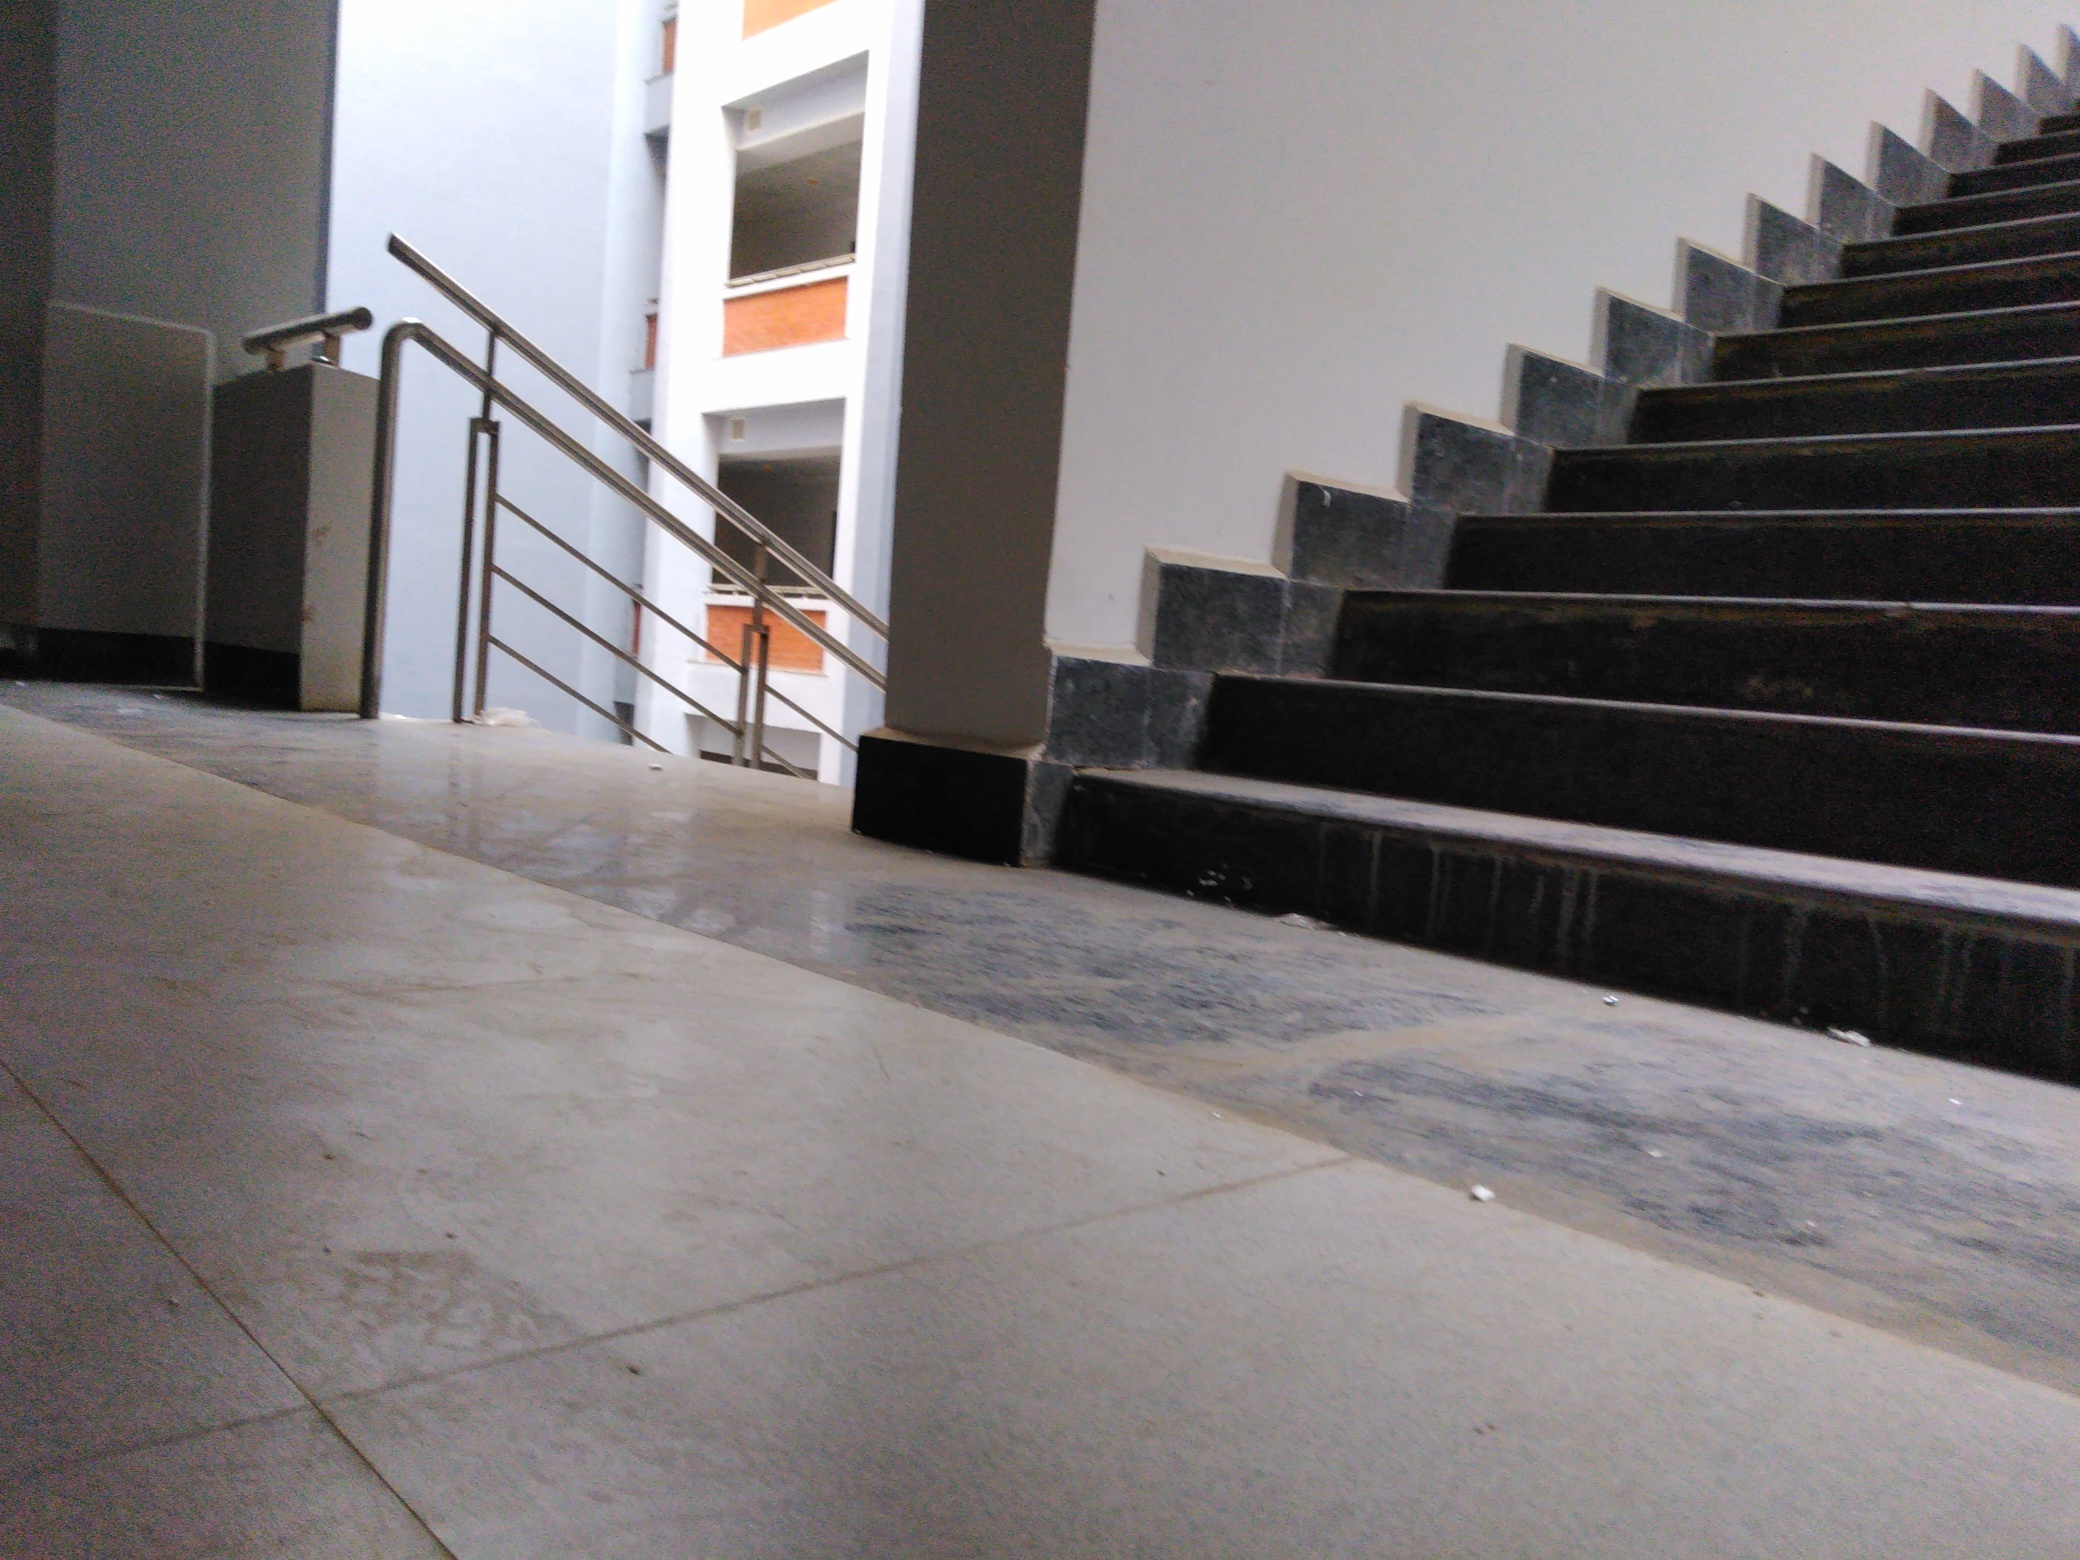stairs_up: (1146, 125, 2064, 949)
